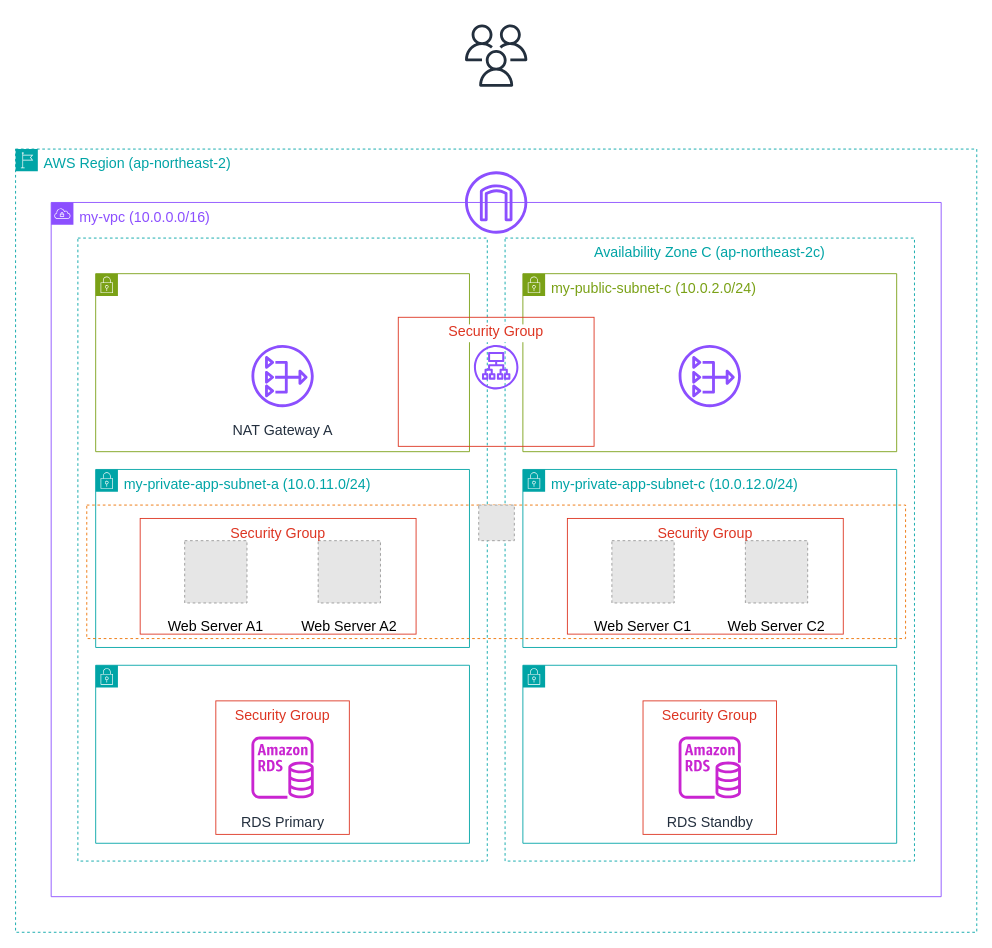
This 992x948 diagram has some shape labels left out. Grey dashed boxes stand in for pictures. Here are the shapes that lost their labels. From the top down, the box of each, then its label:
(465, 24, 527, 86): Users
(465, 171, 527, 233): IGW(Internet Gateway)
(95, 273, 469, 452): my-public-subnet-a (10.0.1.0/24)
(473, 344, 518, 389): ALB (Application Load Balancer)
(678, 344, 740, 407): NAT Gateway C
(77, 237, 487, 861): Availability Zone A (ap-northeast-2a)
(86, 504, 906, 639): ASG (Auto Scaling Group)
(95, 664, 469, 843): my-private-db-subnet-a (10.0.21.0/24)
(522, 664, 897, 843): my-private-db-subnet-c (10.0.22.0/24)
